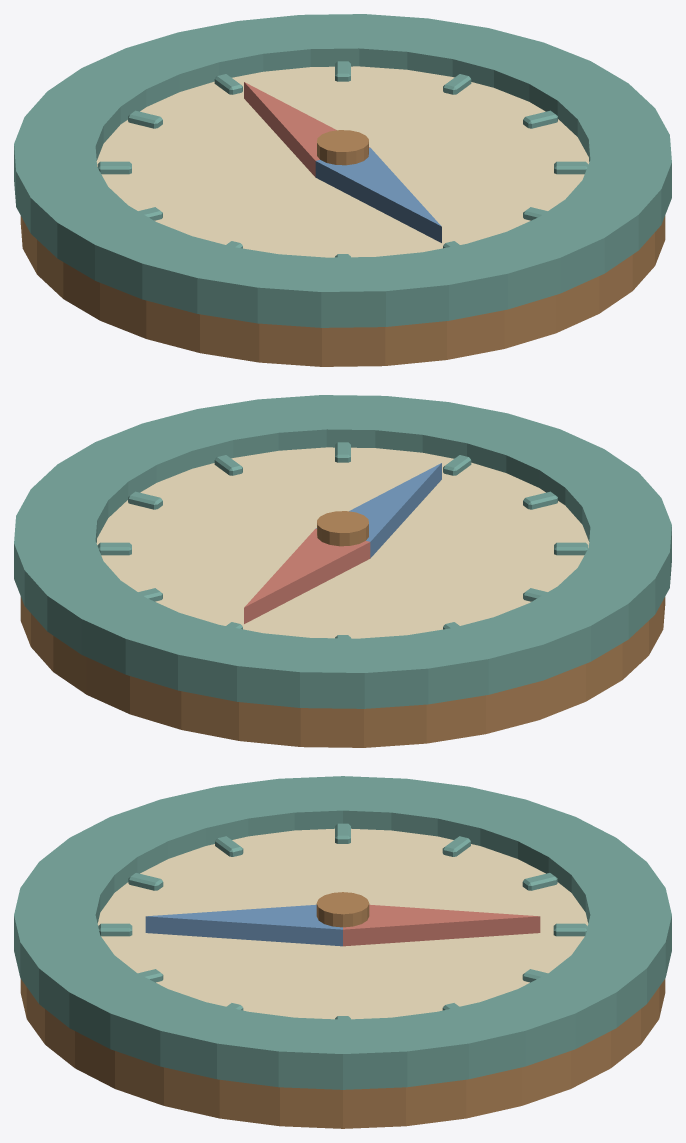
The picture shows the model from 3 angles, top to bottom: view 1: azimuth 30°, elevation 25°; view 2: azimuth 150°, elevation 25°; view 3: azimuth 270°, elevation 25°; orthographic projection.
Visible parts, largest first — view 1: navigation-compass-01; view 2: navigation-compass-01; view 3: navigation-compass-01.
Part boxes in pixels (box(x1,y1,x2,y2)): navigation-compass-01: box(14, 14, 671, 366); navigation-compass-01: box(14, 395, 671, 747); navigation-compass-01: box(14, 776, 671, 1128).
Size of the model in its own units: 0.5 by 0.075 by 0.5.
